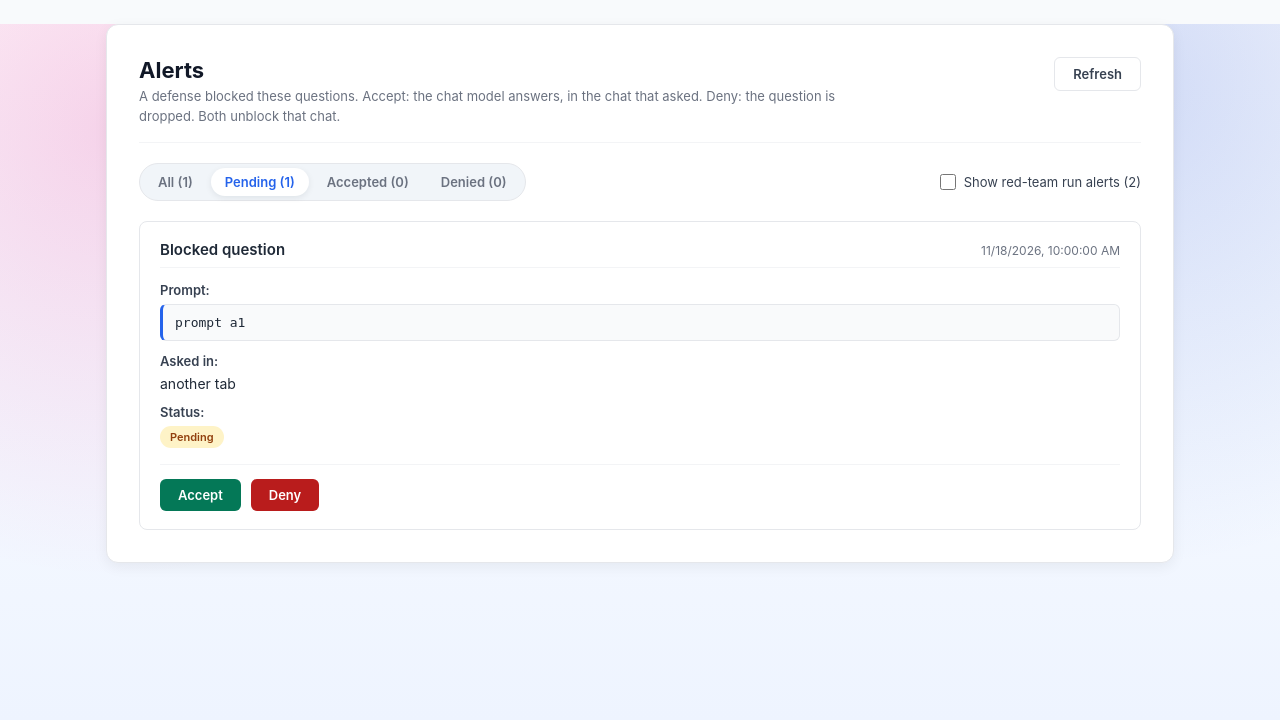
AlertsPage › hides red-team run alerts until the checkbox is ticked
This screenshot has width=1280, height=720.
Expected: the text "prompt a1" is shown, [160,304,1120,341]
Expected: the text "prompt a2" is not shown
Click the checkbox labelled "Show red-team run alerts (2)" at (948, 182), box [940,174,956,190]
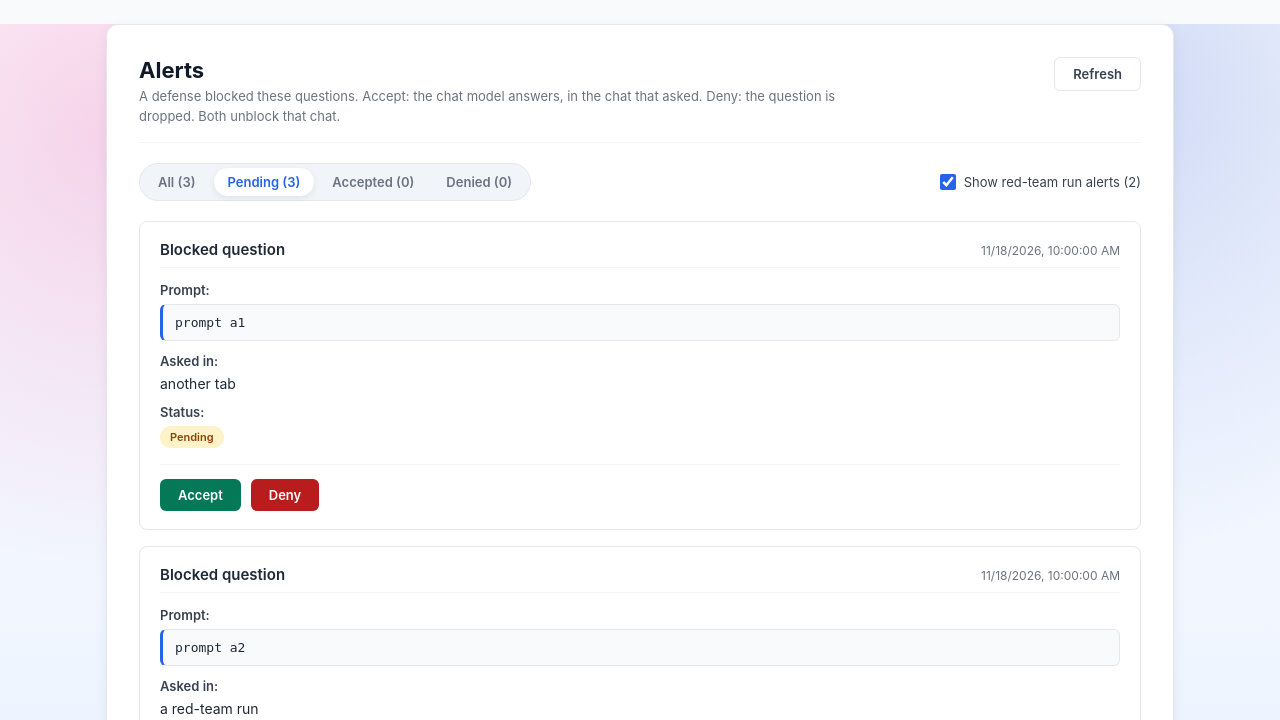
Now the text "prompt a2" is shown, box [160,629,1120,666]
Now the button "Pending (3)" is shown, box [214,168,314,196]
